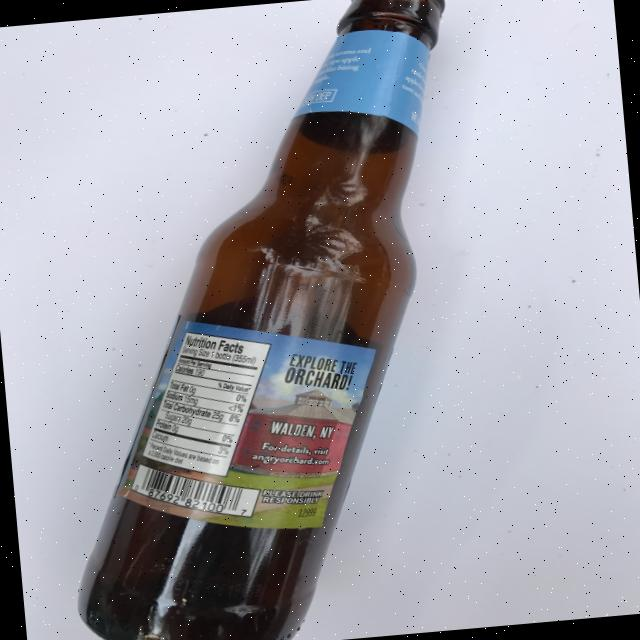glass: (25, 0, 499, 640)
